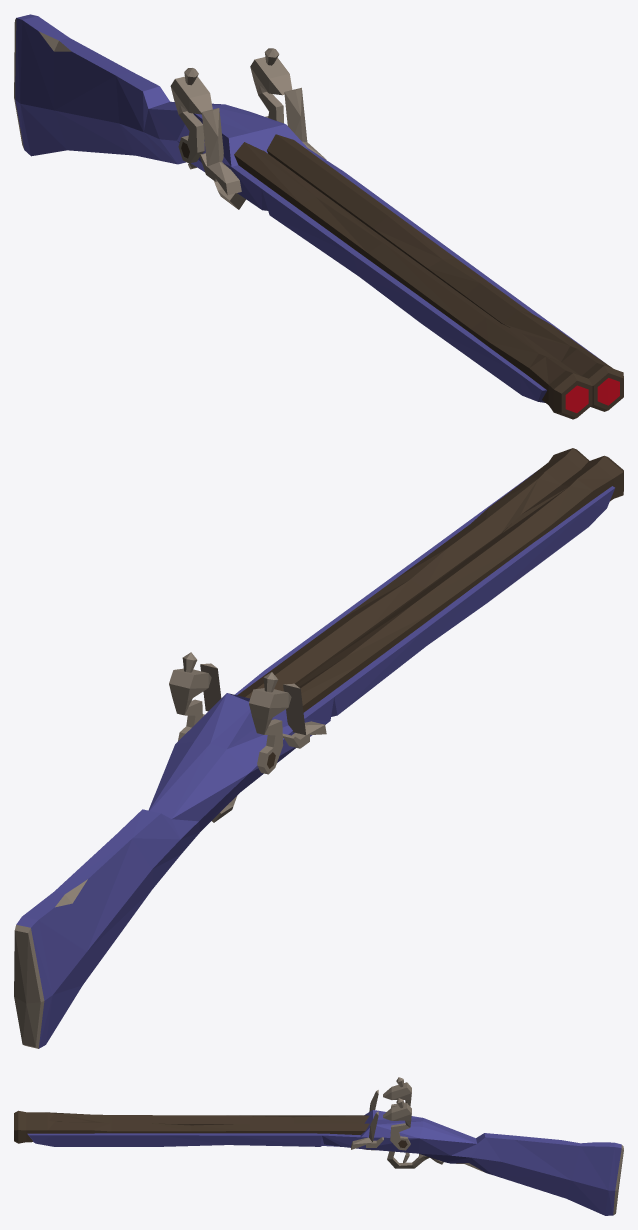
Rendered from SM_Wep_Rifle_DoubleBarrel_01.glb.
3 views of the same model, one above another, from view 1: azimuth 30°, elevation 25°; view 2: azimuth 150°, elevation 25°; view 3: azimuth 270°, elevation 25° (orthographic). The views are drawn at different scales.
Parts seen in each view (by area): view 1: SM_Wep_Rifle_DoubleBarrel_01_00; view 2: SM_Wep_Rifle_DoubleBarrel_01_00; view 3: SM_Wep_Rifle_DoubleBarrel_01_00.
Boxes of the visible parts, bbox=[...] form: SM_Wep_Rifle_DoubleBarrel_01_00: bbox=[14, 14, 623, 419]; SM_Wep_Rifle_DoubleBarrel_01_00: bbox=[14, 448, 623, 1048]; SM_Wep_Rifle_DoubleBarrel_01_00: bbox=[14, 1077, 623, 1215].
Bounding box in the file's own units: 0.1422 × 0.3221 × 1.4.
1 material, 1 textured.
